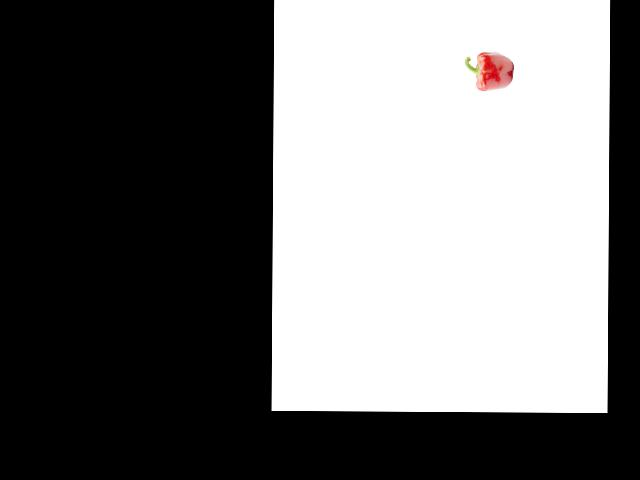bell_pepper: (463, 49, 516, 93)
